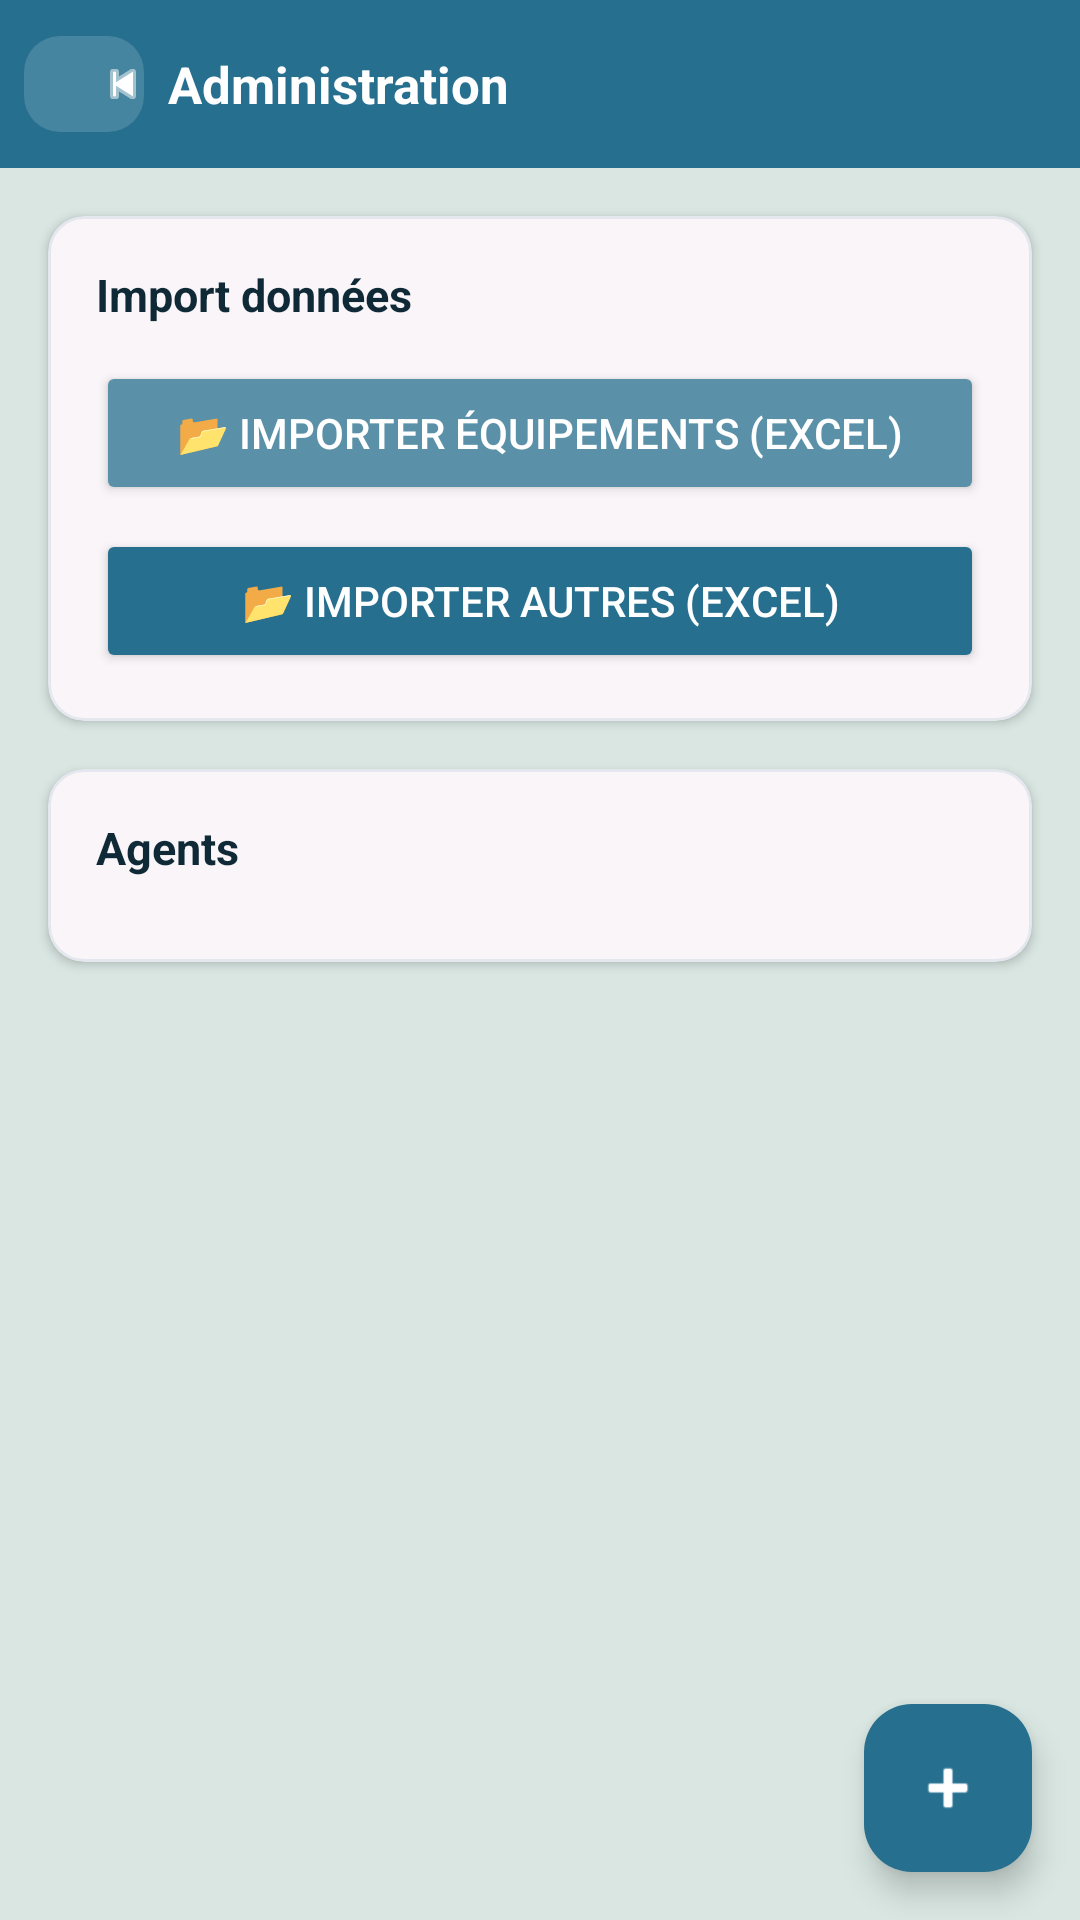

Locate icon controls on the screen. Image size 1080w x 1920h, boxes as (x1, y1, x2, y2).
Ajouter agent: (864, 1704, 1032, 1872)
previous: (24, 36, 144, 132)
